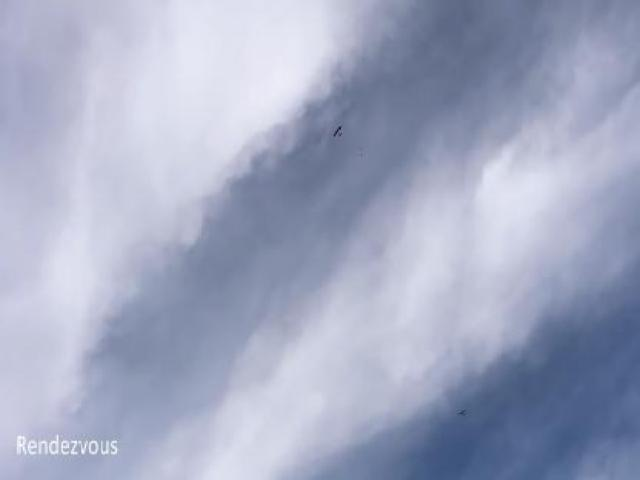uav: (330, 122, 345, 141), (455, 409, 468, 417)
